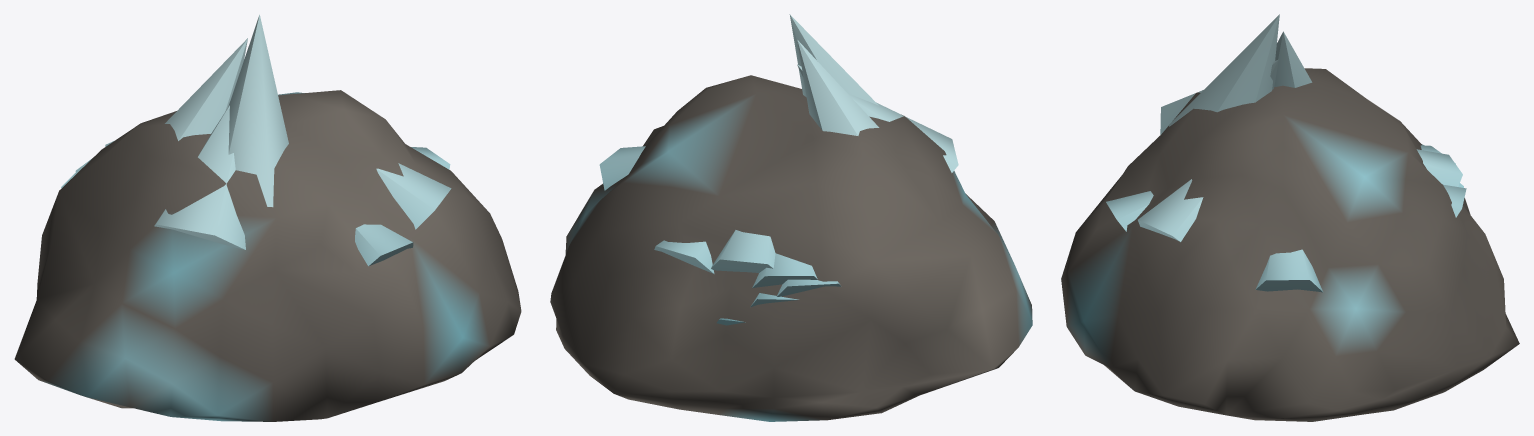
Rendered from mena_cristal_lod.glb.
3 views of the same model, side by side, from view 1: azimuth 30°, elevation 25°; view 2: azimuth 150°, elevation 25°; view 3: azimuth 270°, elevation 25° (orthographic). The views are drawn at different scales.
Parts seen in each view (by area): view 1: mena_cristal_malla; view 2: mena_cristal_malla; view 3: mena_cristal_malla.
Boxes of the visible parts, box(x1,y1,x2,y2) form: mena_cristal_malla: box(14, 14, 521, 421); mena_cristal_malla: box(550, 14, 1032, 421); mena_cristal_malla: box(1061, 14, 1519, 421).
Bounding box in the file's own units: 0.6466 × 0.4867 × 0.5937.
